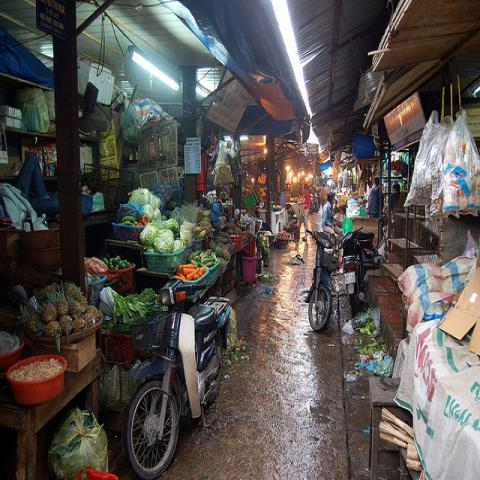motorcycle: (127, 282, 231, 475), (302, 228, 338, 330), (336, 227, 366, 315)
